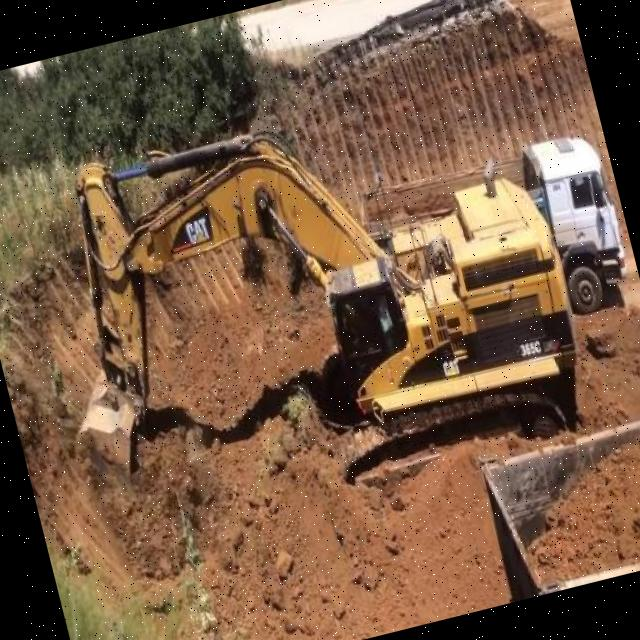Dump Truck: (474, 406, 640, 601), (524, 121, 636, 322)
Excavator: (14, 46, 596, 532)
